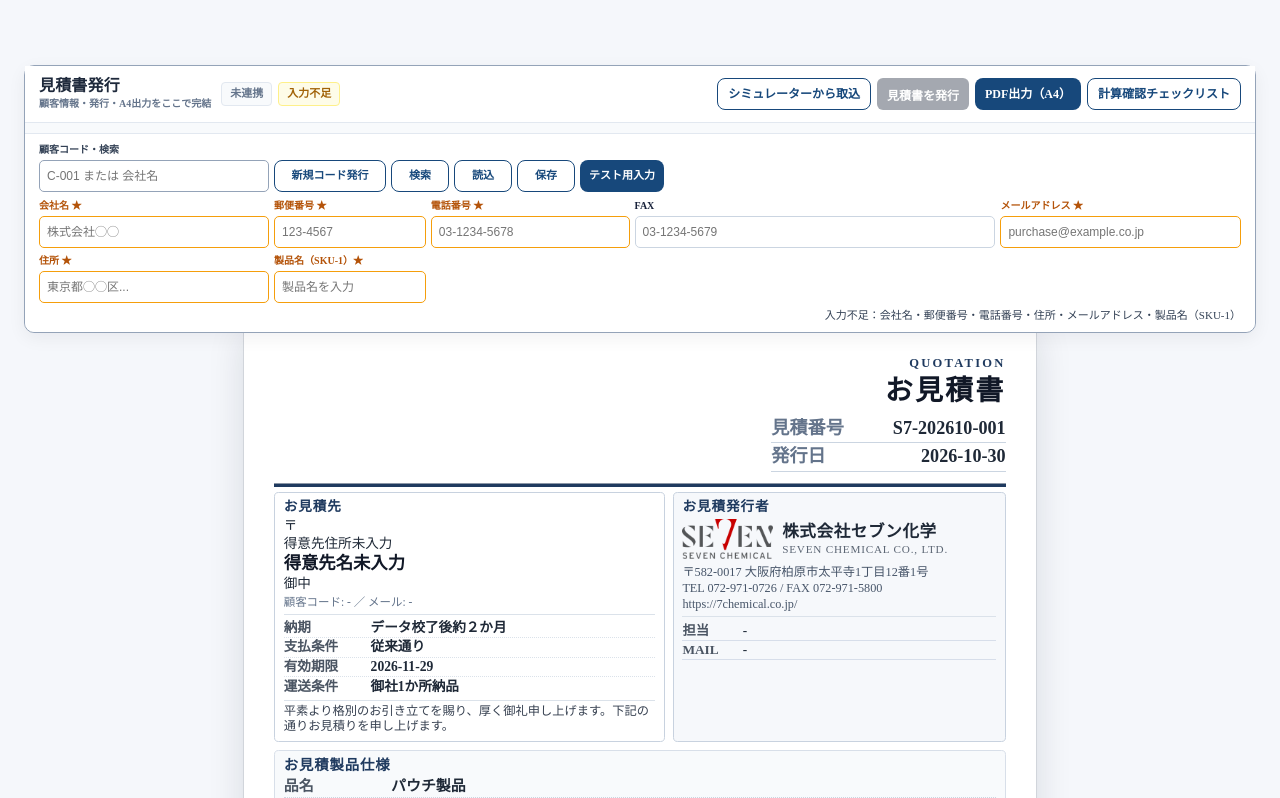
Test: quotation issuance canonical PDF › uses a clear Japanese error when no issued PDF is available
This screenshot has width=1280, height=798.
Click the button with test id "fill-test-data".
click(622, 176)  # box [580,160,664,192]
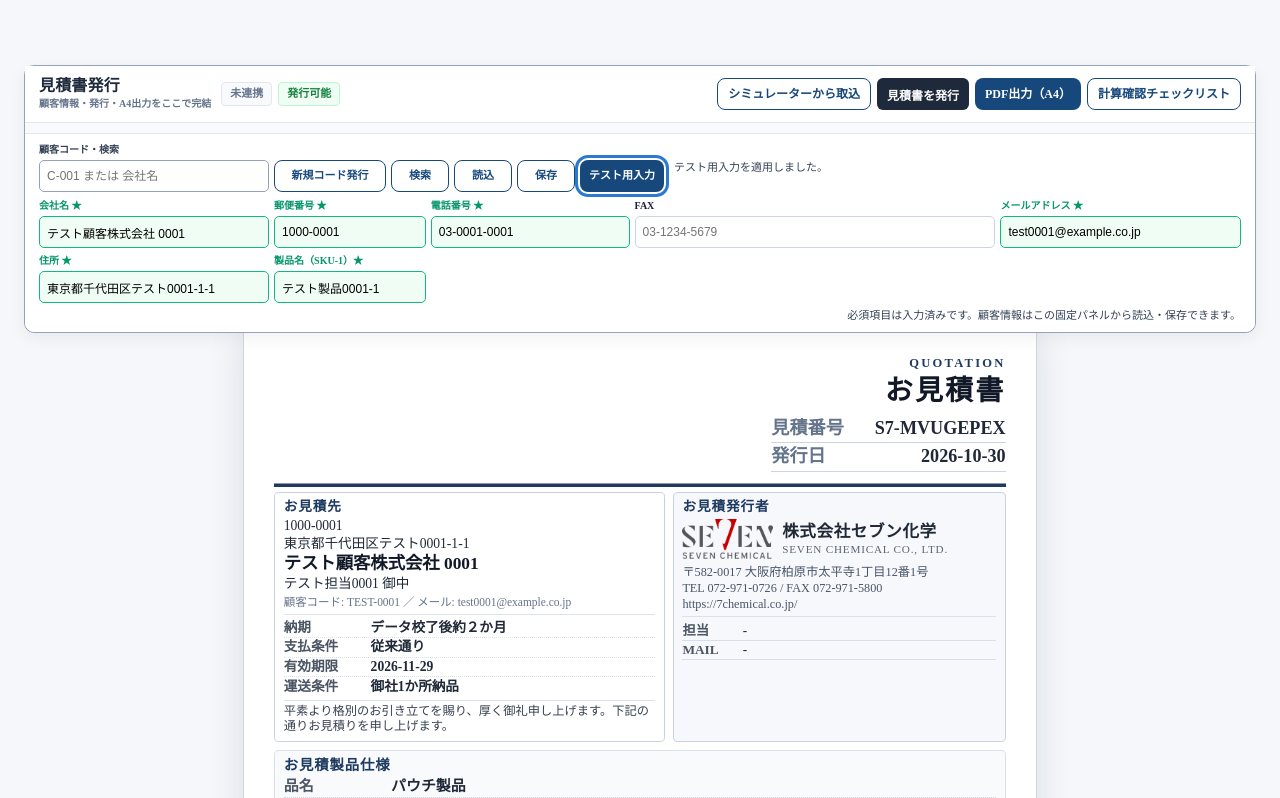
Expected: the button with test id "save-history" is enabled, [877,78,969,110]
Click the button with test id "print-pdf".
click(1028, 94)  # box [975,78,1081,110]
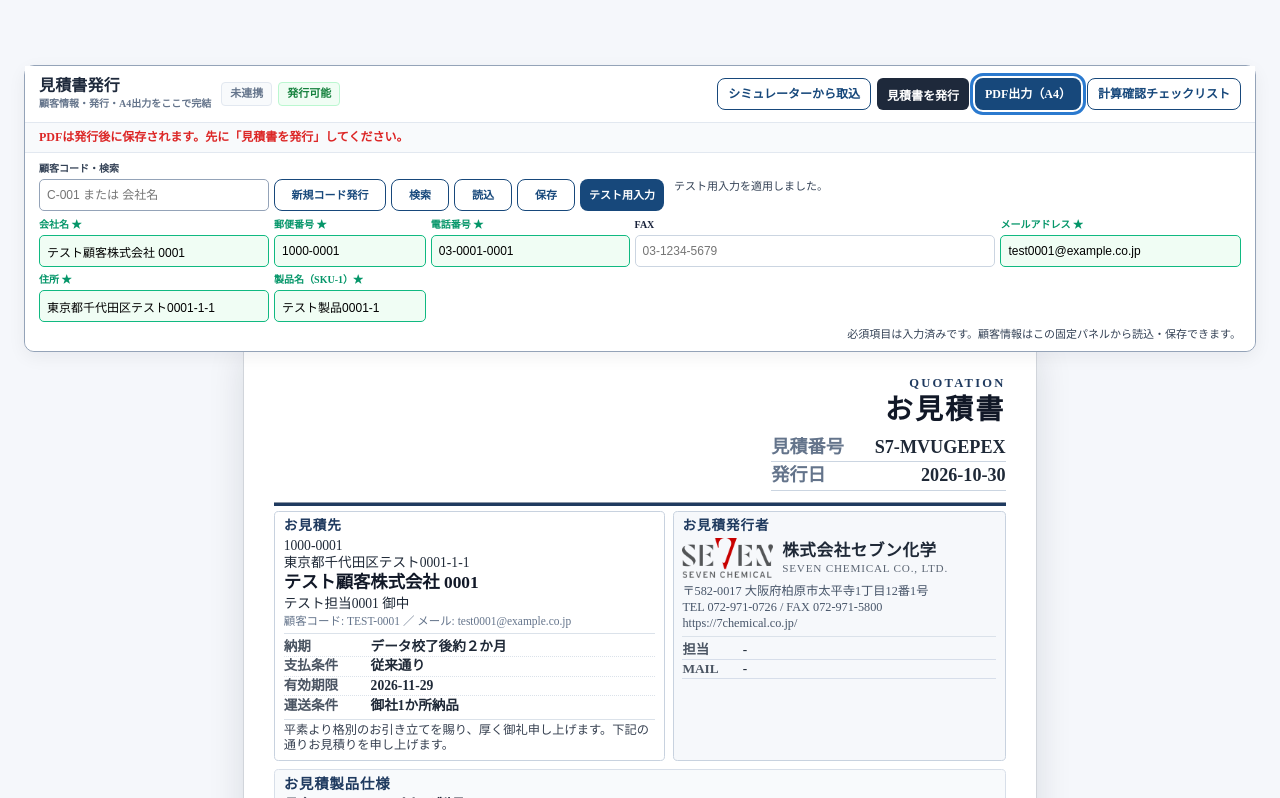
Expected: the message with test id "save-error" reads "PDFは発行後に保存されます。先に「見積書を発行」してください。", [39,130,408,144]
